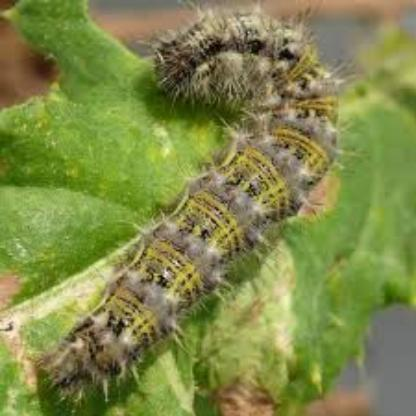oruga: (42, 21, 348, 396)
